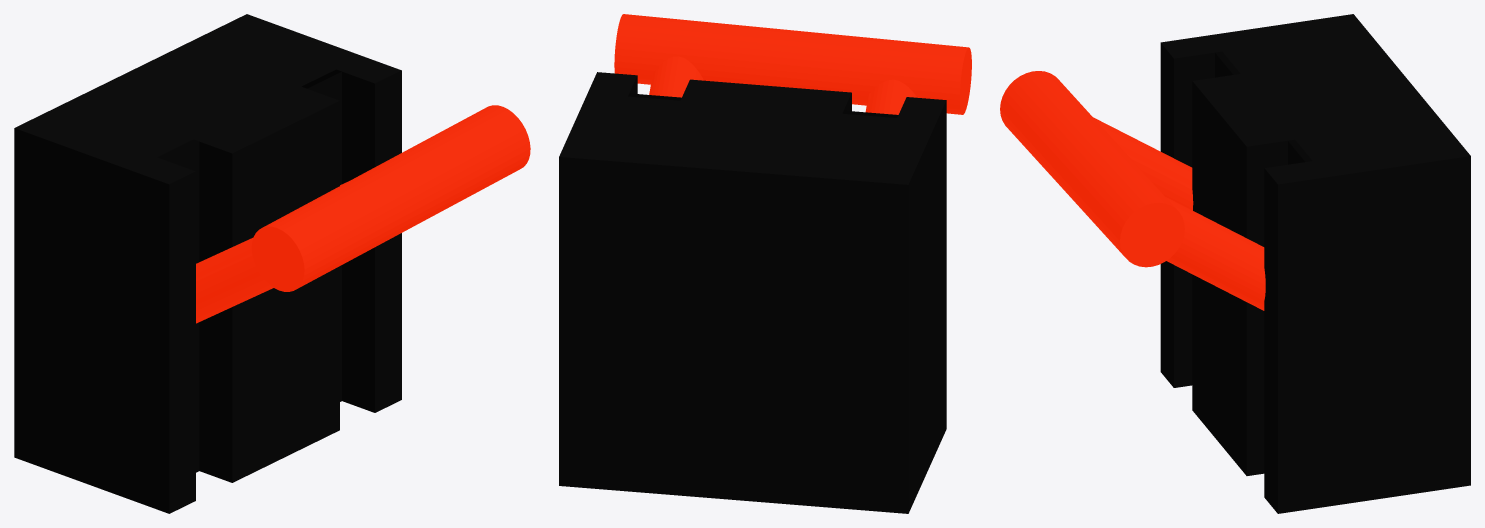
The model's file is lever.glb.
The picture shows the model from 3 angles, left to right: view 1: azimuth 30°, elevation 25°; view 2: azimuth 150°, elevation 25°; view 3: azimuth 270°, elevation 25°; orthographic projection.
Visible parts, largest first — view 1: Cube.003, Cylinder.001; view 2: Cube.003, Cylinder.001; view 3: Cube.003, Cylinder.001.
Boxes of the visible parts, x1,y1,x2,y2 form: Cube.003: (14,14,401,513); Cylinder.001: (196,105,530,323); Cube.003: (559,72,946,513); Cylinder.001: (614,14,971,114); Cube.003: (1160,14,1470,513); Cylinder.001: (1000,71,1265,310).
Size of the model in its own units: 1.68 by 1.33 by 1.72.
